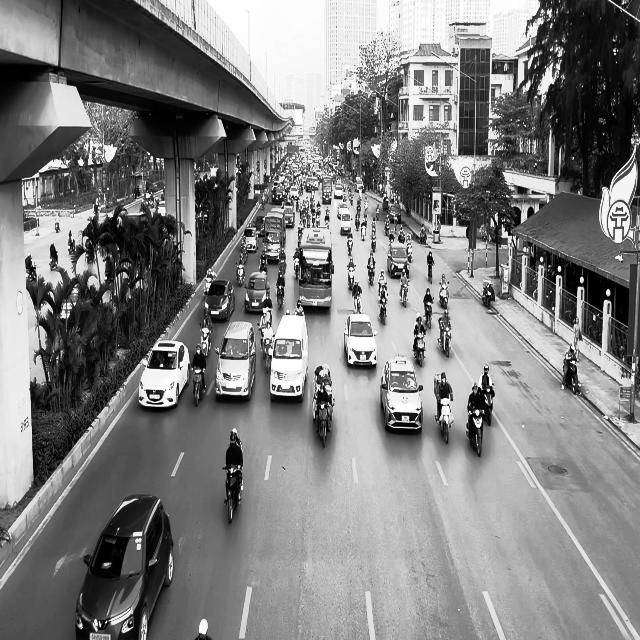bus: (298, 226, 333, 309)
car: (75, 493, 174, 639), (138, 339, 190, 409), (270, 310, 308, 403), (214, 321, 256, 401), (381, 355, 424, 433), (344, 313, 378, 368), (204, 279, 235, 321), (244, 272, 271, 314), (388, 244, 410, 278)
motorbike: (222, 465, 244, 523), (466, 406, 485, 456), (435, 397, 454, 444), (562, 358, 582, 395), (316, 401, 331, 448), (192, 364, 206, 406), (480, 384, 494, 426), (438, 318, 452, 358), (412, 332, 427, 367), (482, 280, 494, 308), (379, 292, 389, 324), (439, 281, 450, 309), (424, 298, 434, 328), (26, 261, 37, 284), (400, 279, 409, 307), (50, 252, 59, 270), (428, 261, 434, 284), (68, 236, 75, 253)
